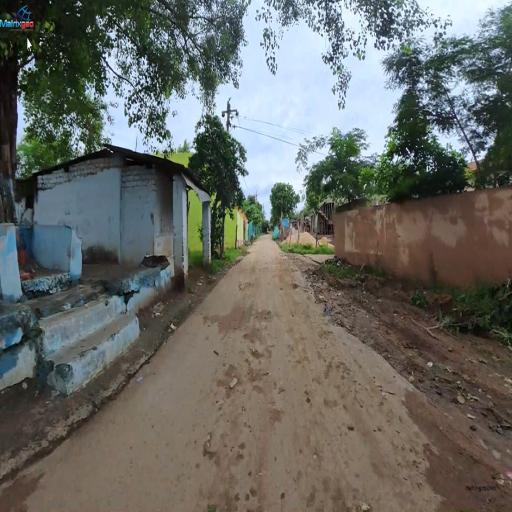edge_damage: (316, 296, 351, 341)
